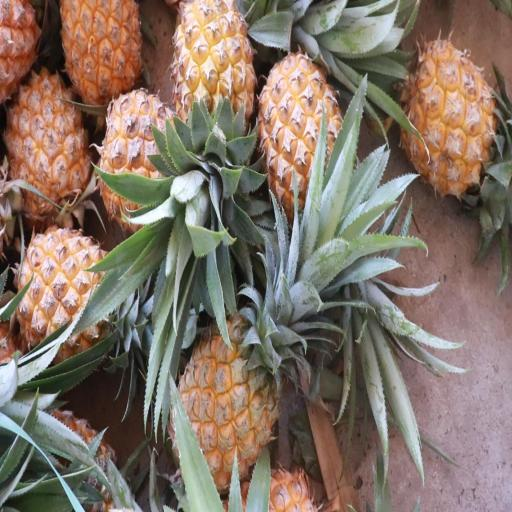Pineapple - v8 v1: (162, 303, 297, 497), (400, 28, 504, 209), (256, 45, 357, 231), (166, 0, 259, 197), (15, 220, 130, 377), (96, 83, 198, 253), (3, 60, 99, 238), (56, 0, 146, 115)
